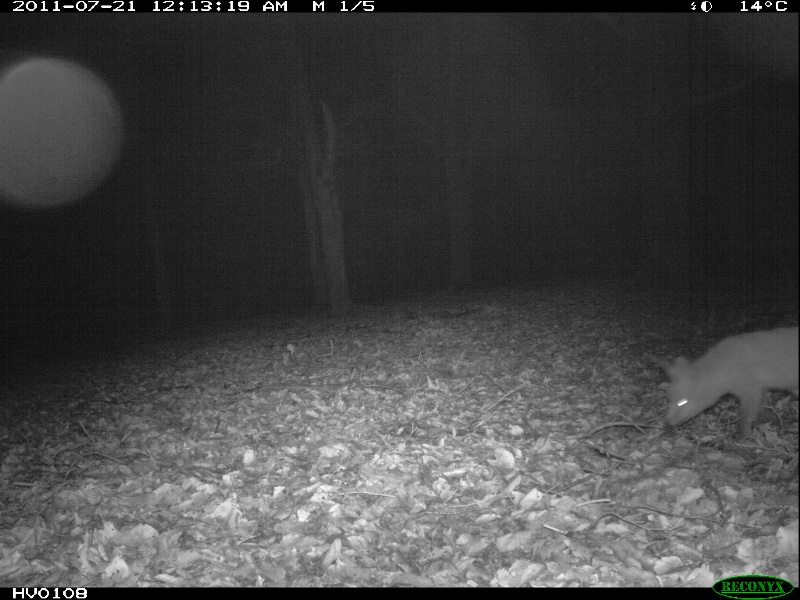fox: (654, 323, 800, 443)
